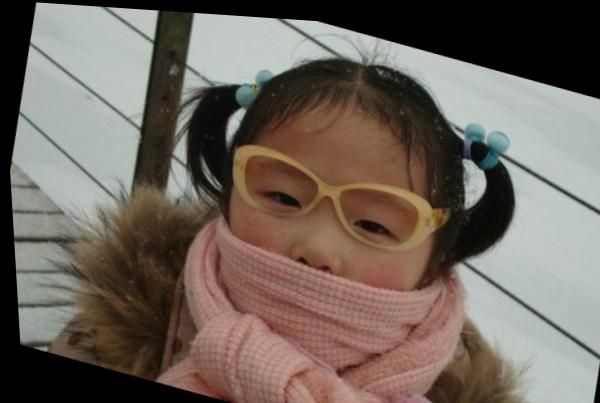WRONG: (189, 136, 426, 374)
